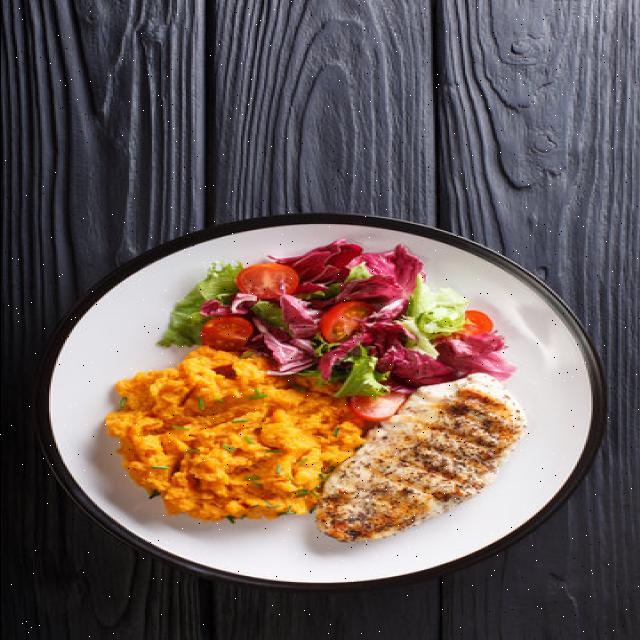Chicken: (315, 373, 524, 540)
Green veg: (162, 263, 244, 345), (393, 274, 468, 356), (329, 344, 389, 396), (299, 283, 341, 299), (311, 334, 338, 356), (252, 301, 281, 319), (345, 263, 370, 281), (268, 319, 286, 329)
Non green veg: (201, 241, 455, 383)
Rice: (105, 346, 364, 520)
